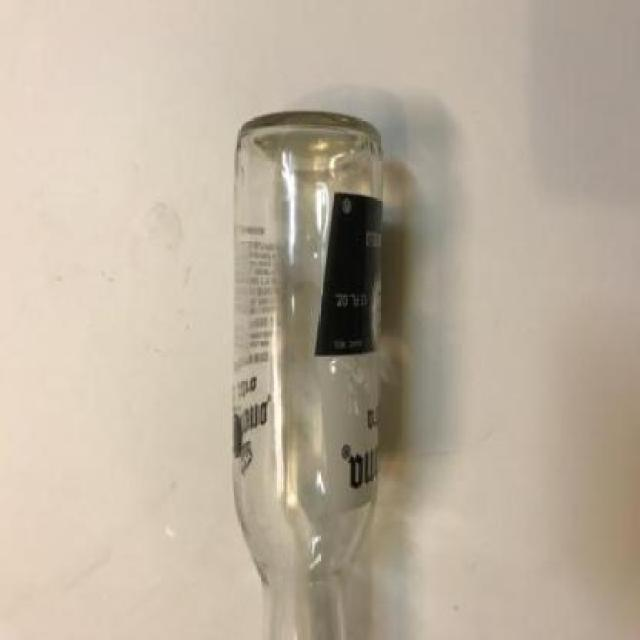kaca: (229, 107, 383, 638)
